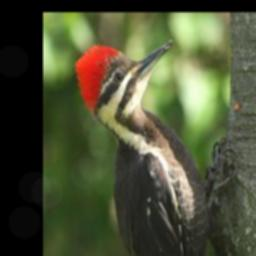Woodpecker: (76, 38, 234, 256)
